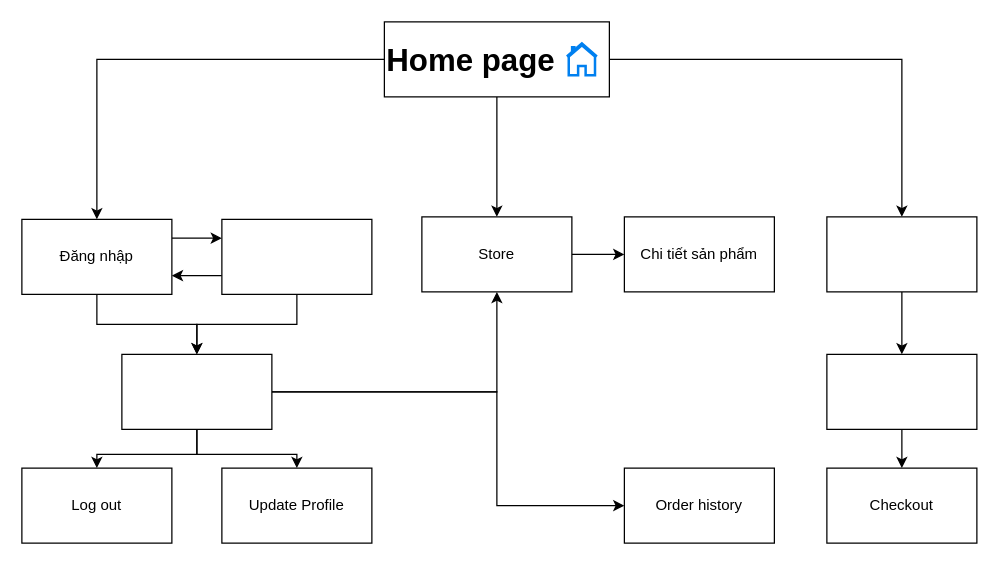
The diagram is 999 pixels wide and 565 high, and some of its shapes have lost their labels. The shapes that lost their labels are listed below. From the top down, each one's centre as x and y in pixels, then its label:
At point (296, 256): "Đăng ký".
At point (901, 254): "Cart".
At point (196, 391): "Profile".
At point (901, 391): "Order summary".
